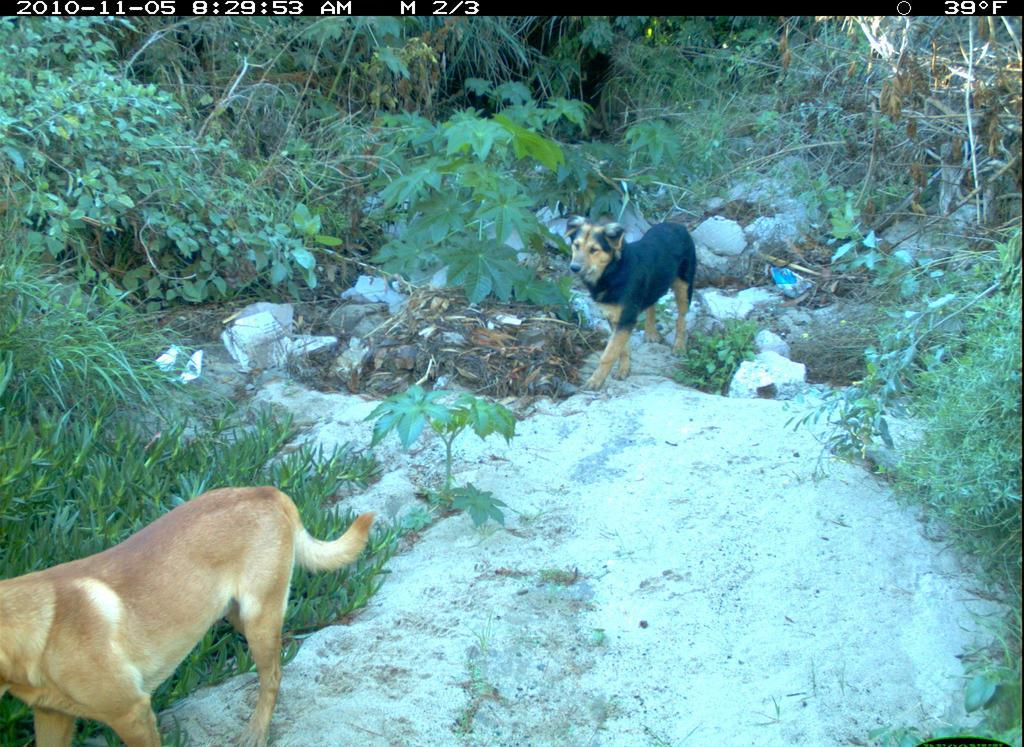dog: (1, 479, 385, 745), (552, 208, 717, 401)
